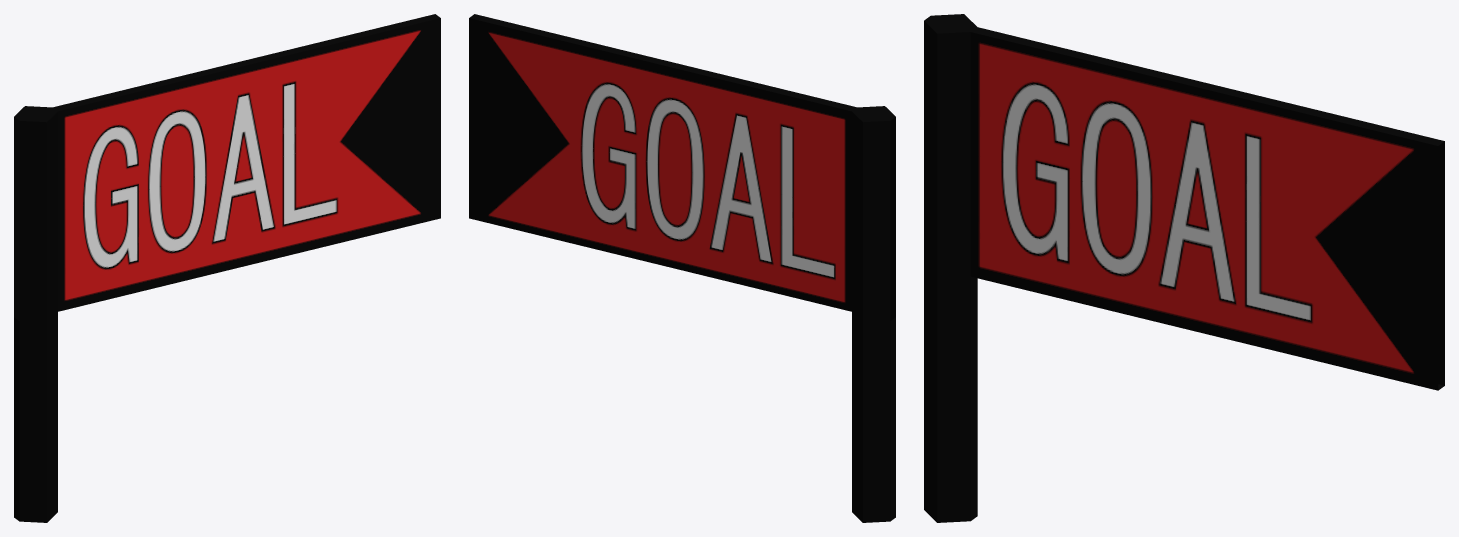
Rendered from flag.glb.
3 views of the same model, side by side, from view 1: azimuth 30°, elevation 25°; view 2: azimuth 150°, elevation 25°; view 3: azimuth 330°, elevation 25° (orthographic). The views are drawn at different scales.
Visible parts, largest first — view 1: Goal; view 2: Goal; view 3: Goal.
Part boxes in pixels (x1,y1,x2,y2): Goal: [14, 14, 440, 522]; Goal: [469, 14, 895, 522]; Goal: [924, 14, 1444, 522].
Size of the model in its own units: 2.2 by 2 by 0.2.
2 materials, 1 textured.
